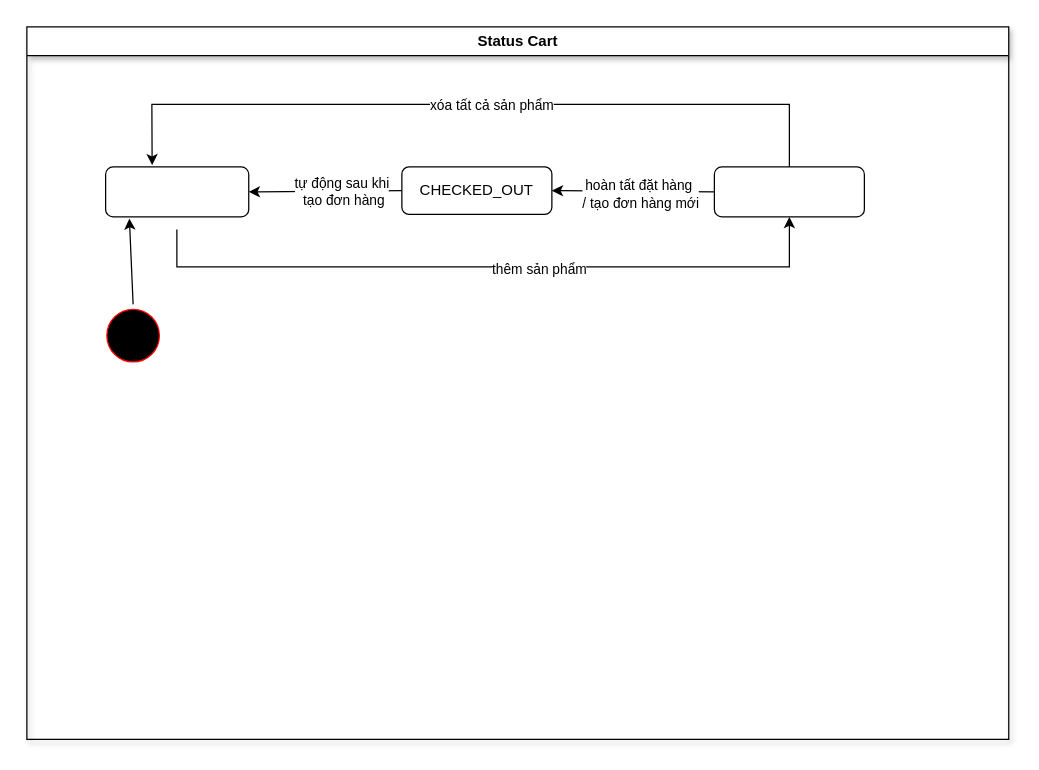
Image size: 1039x770. Some labels were removed from this diagram. The centre of each missing label's shape, as x and y in pixels:
ACTIVE: point 788,191
EMPTY: point 176,191
